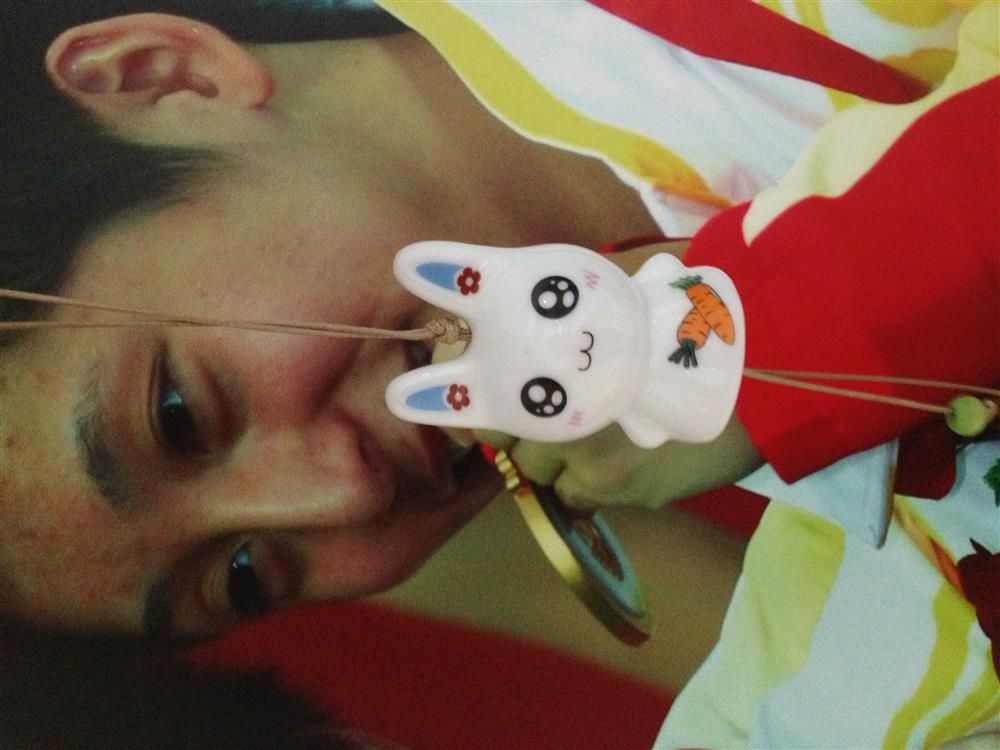porcelain_cat: (385, 228, 746, 451)
